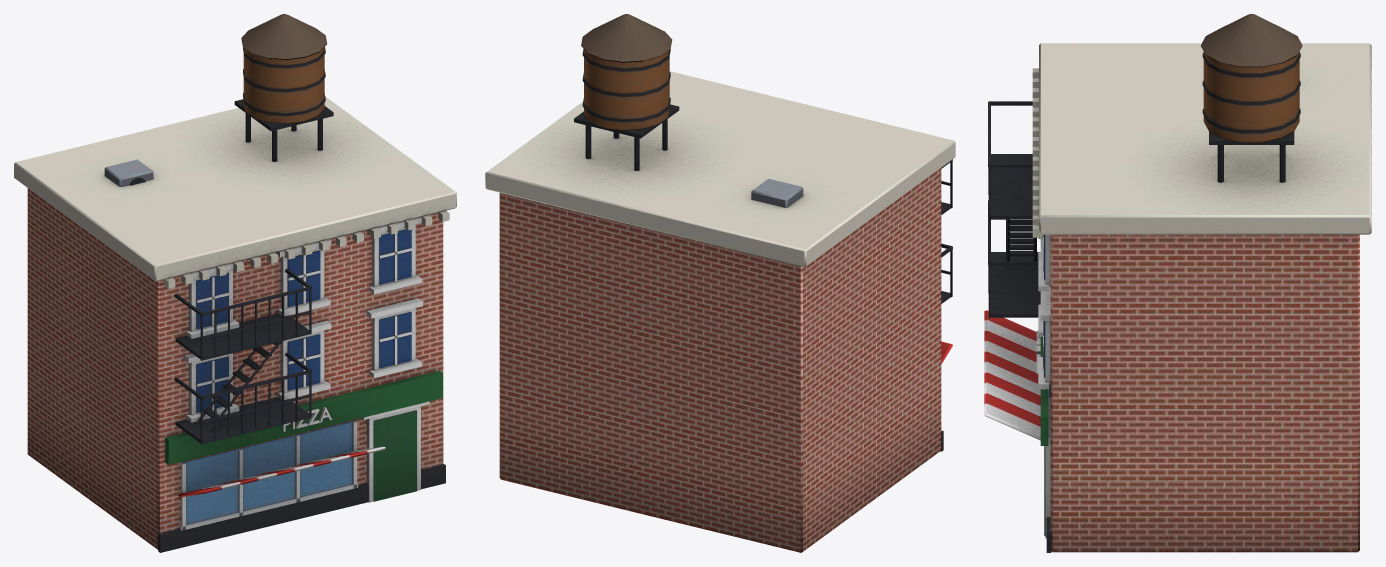
File: tienda_roja.glb
3 views of the same model, side by side, from view 1: azimuth 30°, elevation 25°; view 2: azimuth 150°, elevation 25°; view 3: azimuth 270°, elevation 25° (orthographic). The views are drawn at different scales.
Parts seen in each view (by area): view 1: tienda_roja; view 2: tienda_roja; view 3: tienda_roja.
Boxes of the visible parts, x1,y1,x2,y2 form: tienda_roja: [14, 14, 456, 552]; tienda_roja: [485, 14, 955, 552]; tienda_roja: [984, 14, 1371, 552].
Bounding box in the file's own units: 5.3 × 7.07 × 5.01.
Materials: 1 (1 with a texture image).
